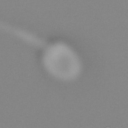normal: (1, 15, 48, 48)
